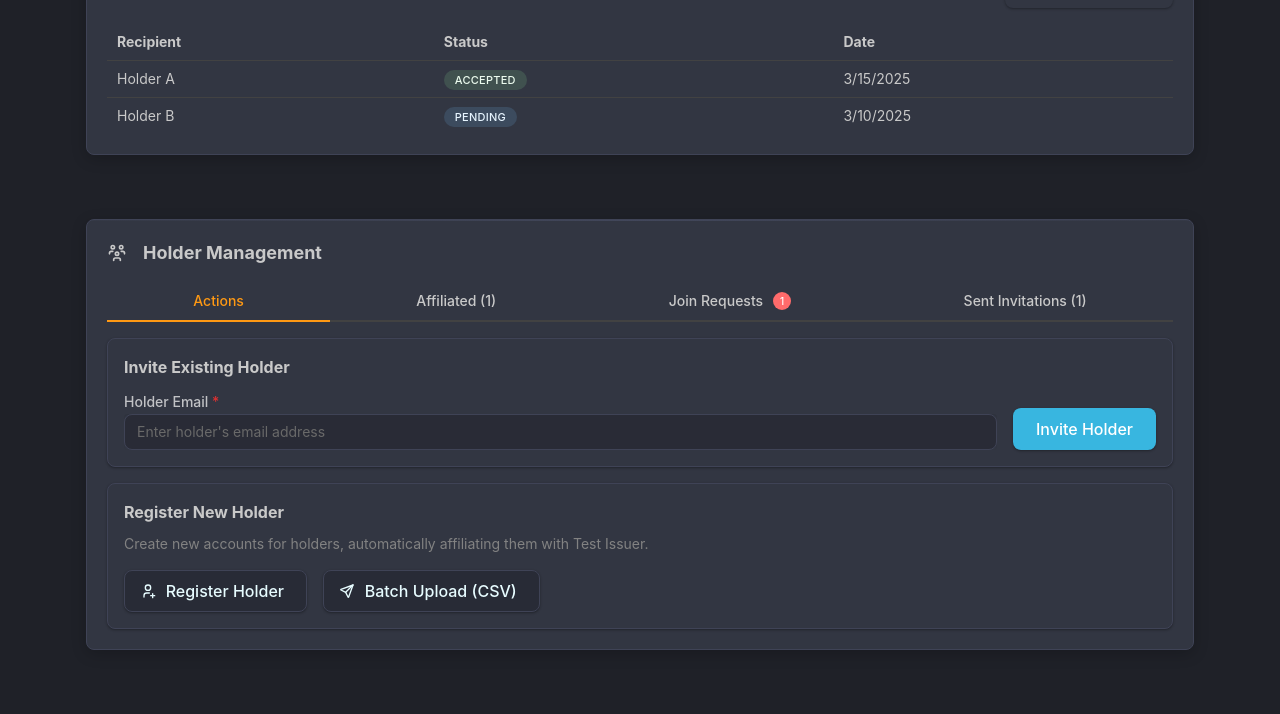
Test: ManageIssuer component › can open the batch upload modal
(page scrolled)
// Click the batch upload button
Click the button "Batch Upload (CSV)": (431, 591) 323,570 -> 540,612
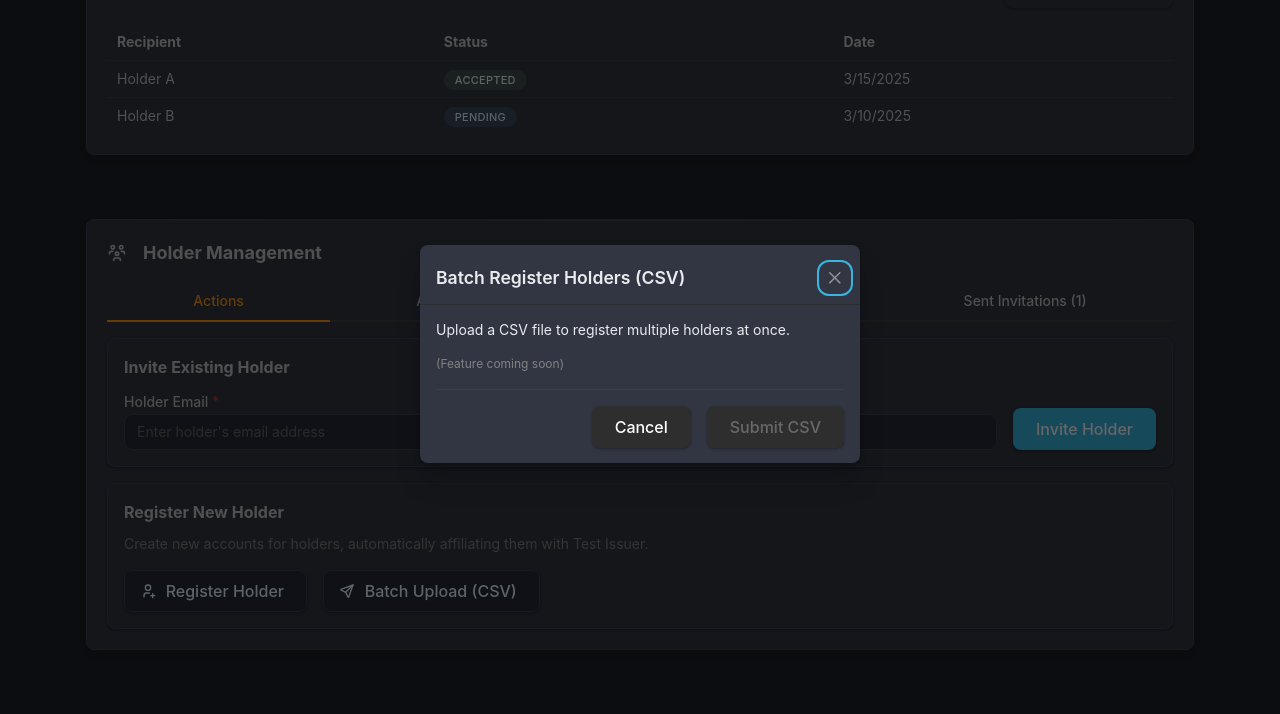
Check: the dialog is shown, box 420,245 -> 860,463
Check: the heading "Batch Register Holders (CSV)" is shown, box 436,269 -> 685,286
Check: the text "(Feature coming soon)" is shown, box 436,356 -> 564,371
